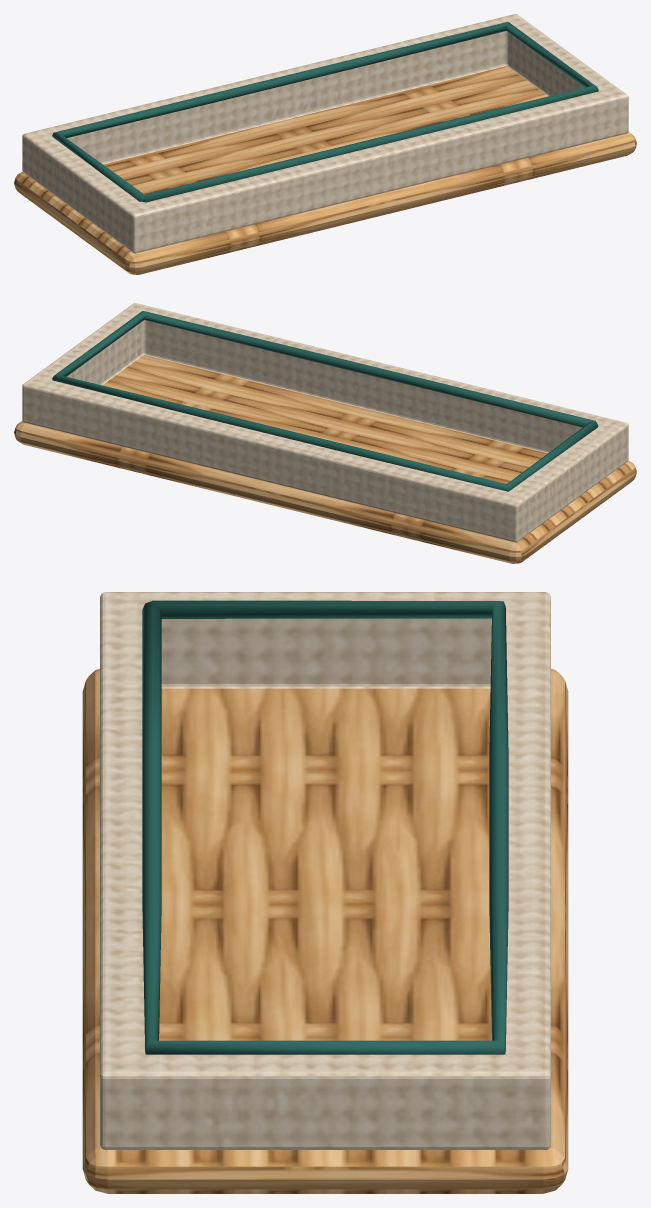
File: socket_bar.glb
3 renders of one model, top to bottom at view 1: azimuth 30°, elevation 25°; view 2: azimuth 150°, elevation 25°; view 3: azimuth 270°, elevation 25°, orthographic. The views are drawn at different scales.
Visible parts, largest first — view 1: socket_bar; view 2: socket_bar; view 3: socket_bar.
Boxes of the visible parts, left/top/right/bottom form: socket_bar: left=14, top=14, right=636, bottom=274; socket_bar: left=14, top=303, right=636, bottom=563; socket_bar: left=82, top=592, right=568, bottom=1193.
Bounding box in the file's own units: 0.85 × 0.105 × 0.35.
3 materials, 2 textured.
